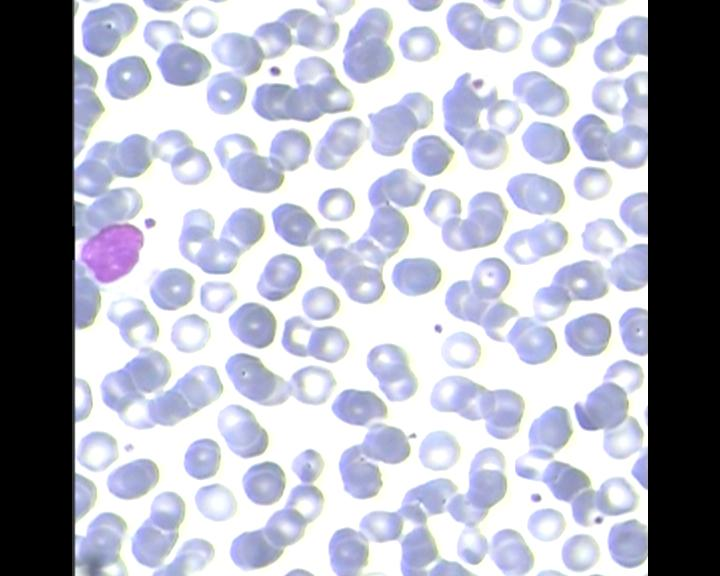lymp: (75, 217, 155, 295)
